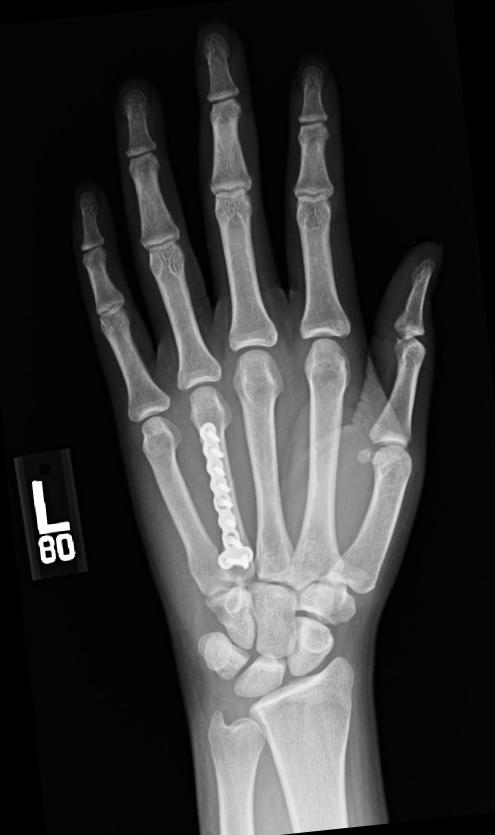fracture: (194, 415, 256, 577)
